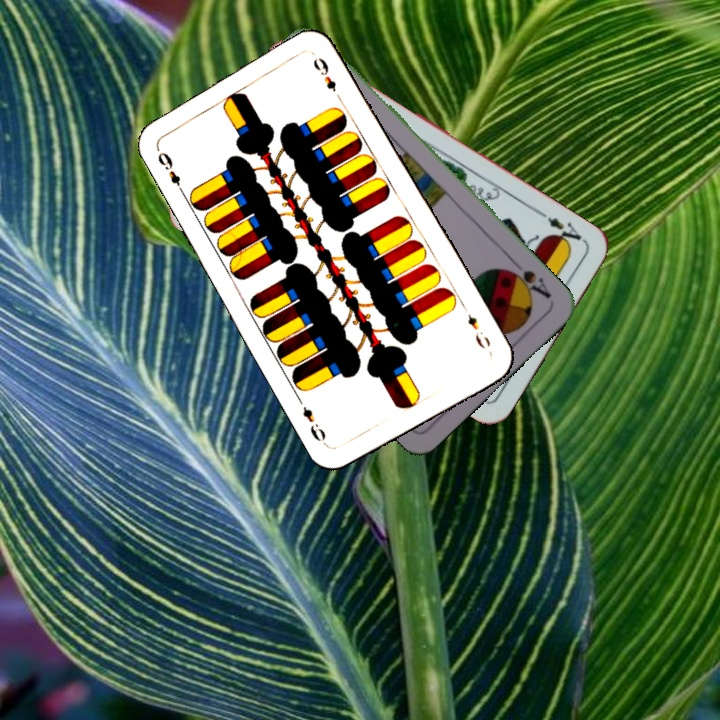E9: (153, 147, 187, 197), (463, 310, 494, 352)
EA: (536, 208, 584, 250)
SA: (501, 256, 554, 301)
